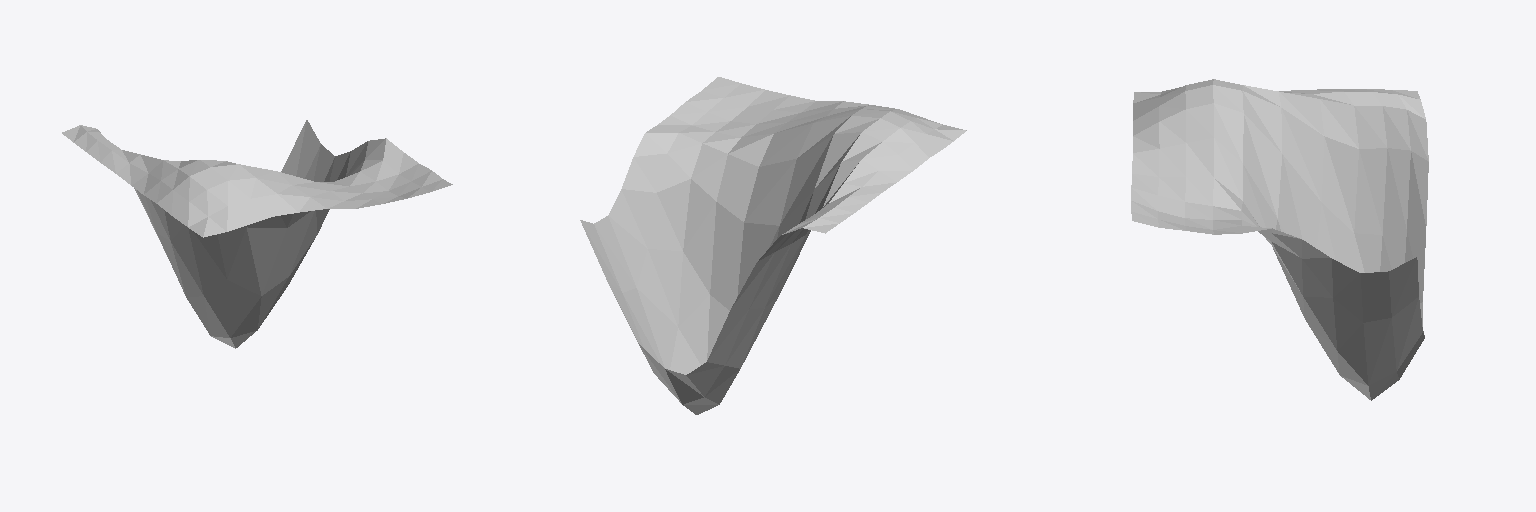
Rendered from plana.obj.
3 renders of one model, left to right at view 1: azimuth 30°, elevation 25°; view 2: azimuth 150°, elevation 25°; view 3: azimuth 270°, elevation 25°, orthographic.
Visible parts, largest first — view 1: Plane_Plane.001; view 2: Plane_Plane.001; view 3: Plane_Plane.001.
Part boxes in pixels (left/top/right/bottom): Plane_Plane.001: left=62, top=120, right=452, bottom=348; Plane_Plane.001: left=580, top=77, right=966, bottom=414; Plane_Plane.001: left=1131, top=79, right=1428, bottom=400.
Bounding box in the file's own units: 8.28 × 8.04 × 8.19.